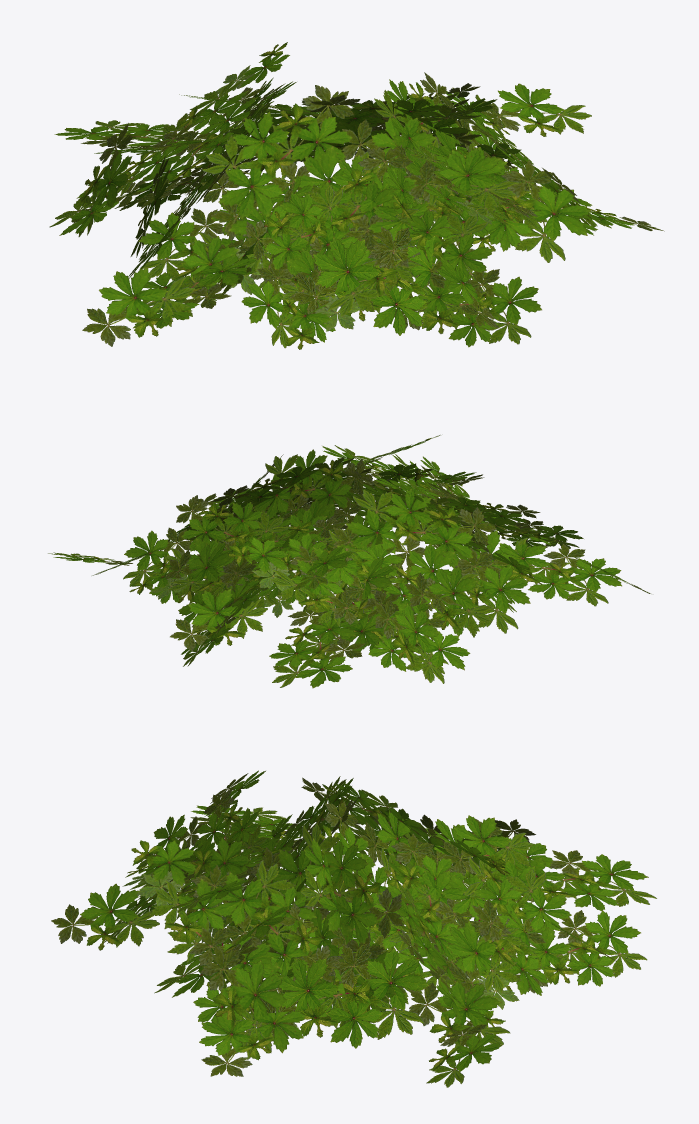
The model's file is bodembedekker 1.fbx.
3 renders of one model, top to bottom at view 1: azimuth 30°, elevation 25°; view 2: azimuth 150°, elevation 25°; view 3: azimuth 270°, elevation 25°, orthographic. The views are drawn at different scales.
Visible parts, largest first — view 1: Mesh Object; view 2: Mesh Object; view 3: Mesh Object.
Part boxes in pixels (x1,y1,x2,y2): Mesh Object: (49, 42, 664, 349); Mesh Object: (48, 435, 650, 688); Mesh Object: (51, 770, 656, 1087).
Size of the model in its own units: 8.64 by 2.66 by 7.89.
1 material, 1 textured.
